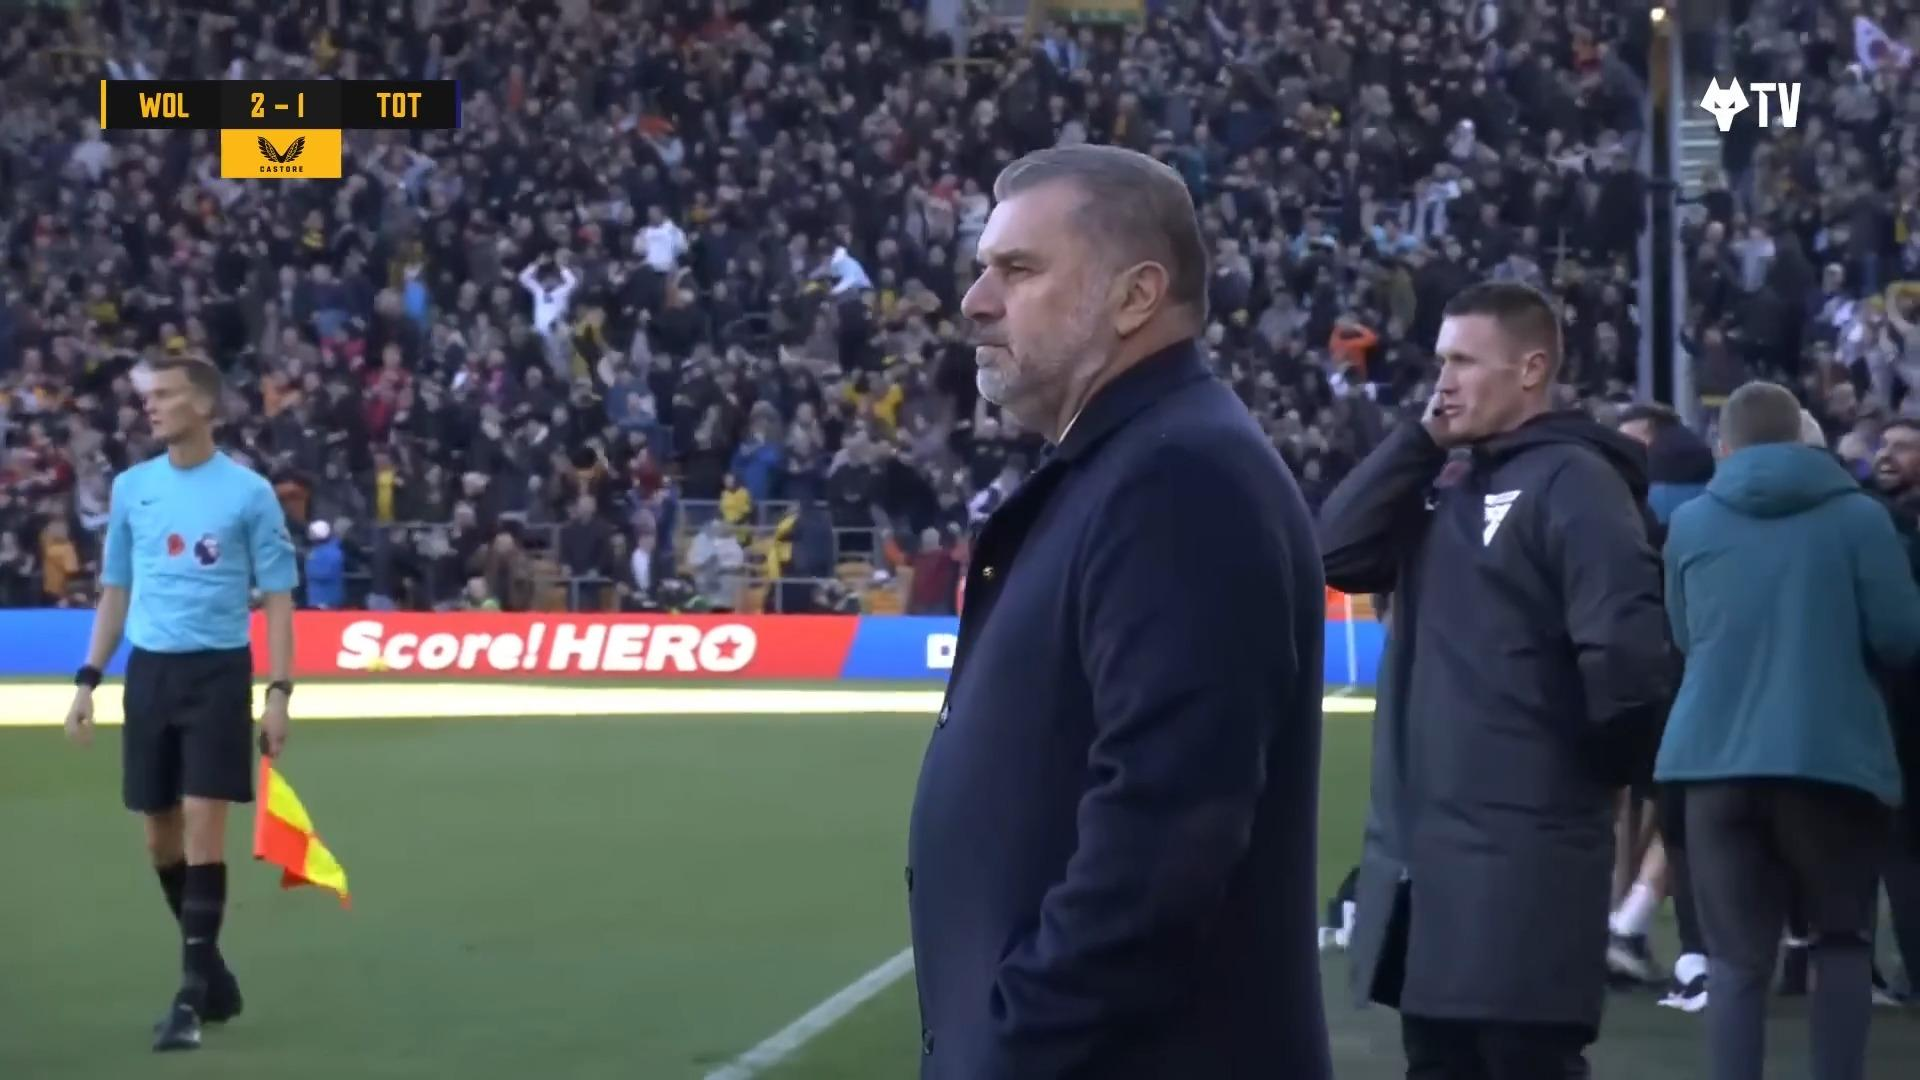Referee: (56, 364, 365, 1047)
